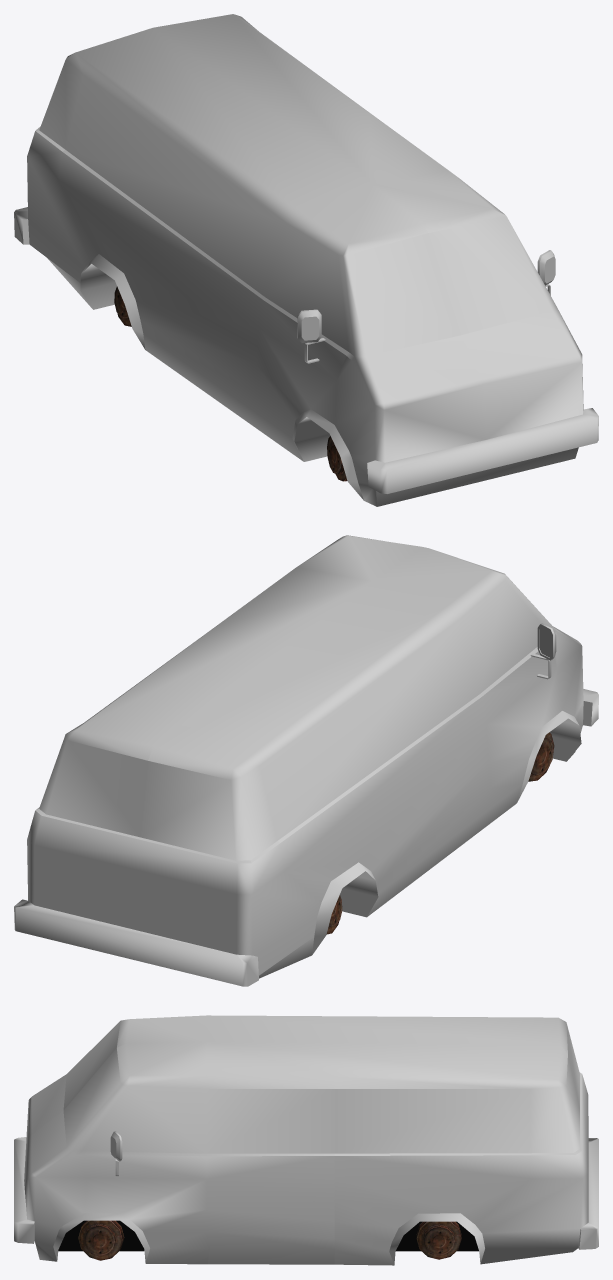
Rendered from van_wheelless.fbx.
The picture shows the model from 3 angles, top to bottom: view 1: azimuth 30°, elevation 25°; view 2: azimuth 150°, elevation 25°; view 3: azimuth 270°, elevation 25°; orthographic projection. The views are drawn at different scales.
Parts seen in each view (by area): view 1: mesh_0, mesh_1; view 2: mesh_0, mesh_1; view 3: mesh_0, mesh_1.
Part boxes in pixels (left/top/right/bottom): mesh_0: left=14, top=14, right=598, bottom=506; mesh_1: left=114, top=286, right=347, bottom=481; mesh_0: left=14, top=535, right=598, bottom=986; mesh_1: left=326, top=732, right=554, bottom=934; mesh_0: left=14, top=1015, right=598, bottom=1265; mesh_1: left=58, top=1220, right=478, bottom=1260.
Bounding box in the file's own units: 250 × 209 × 613.
